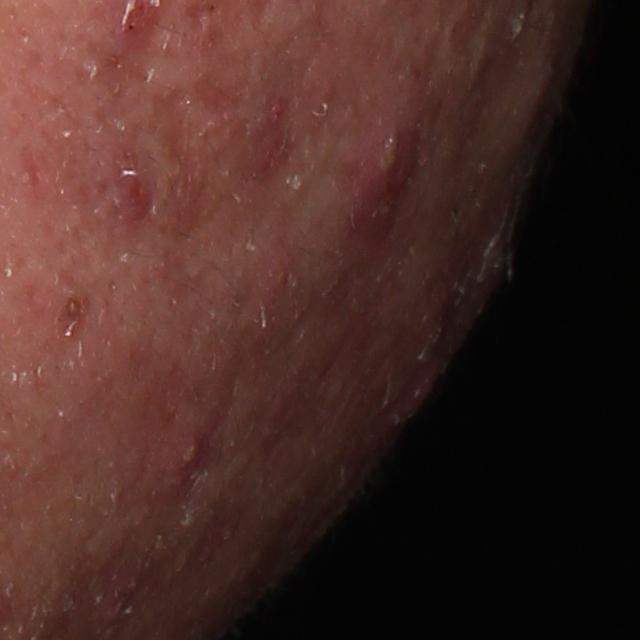nodule: (337, 98, 423, 233)
